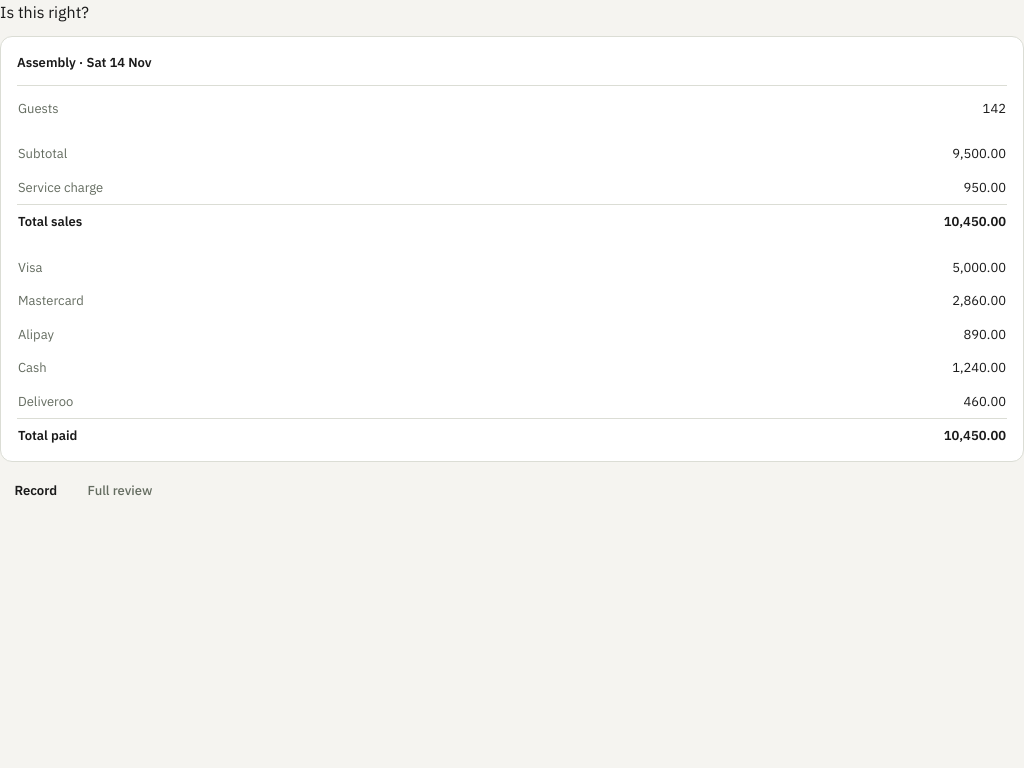
Test case: Bani chat sales receipt › records only after Record and a second confirm
The width and height of the screenshot is (1024, 768).
Later steps or results of the test are not shown.
Click the button "Record": (36, 490) left=0, top=474, right=72, bottom=508
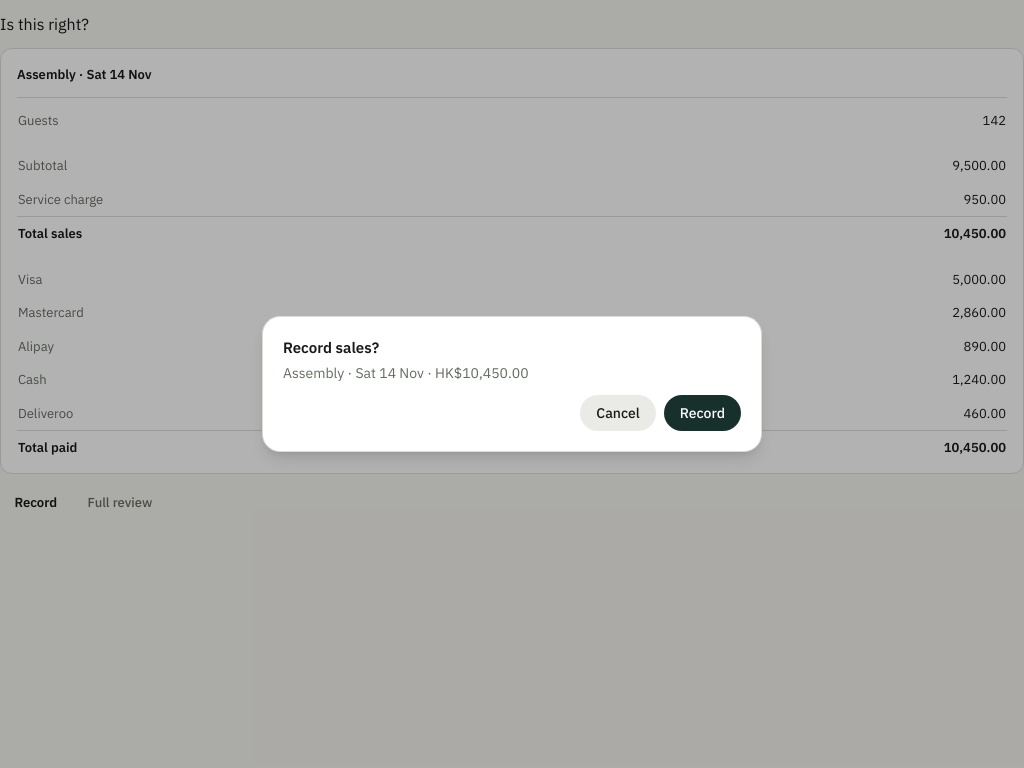
expect the dialog is shown: met, box left=262, top=316, right=762, bottom=452
Click the button "Cancel": (618, 413) left=580, top=395, right=656, bottom=431
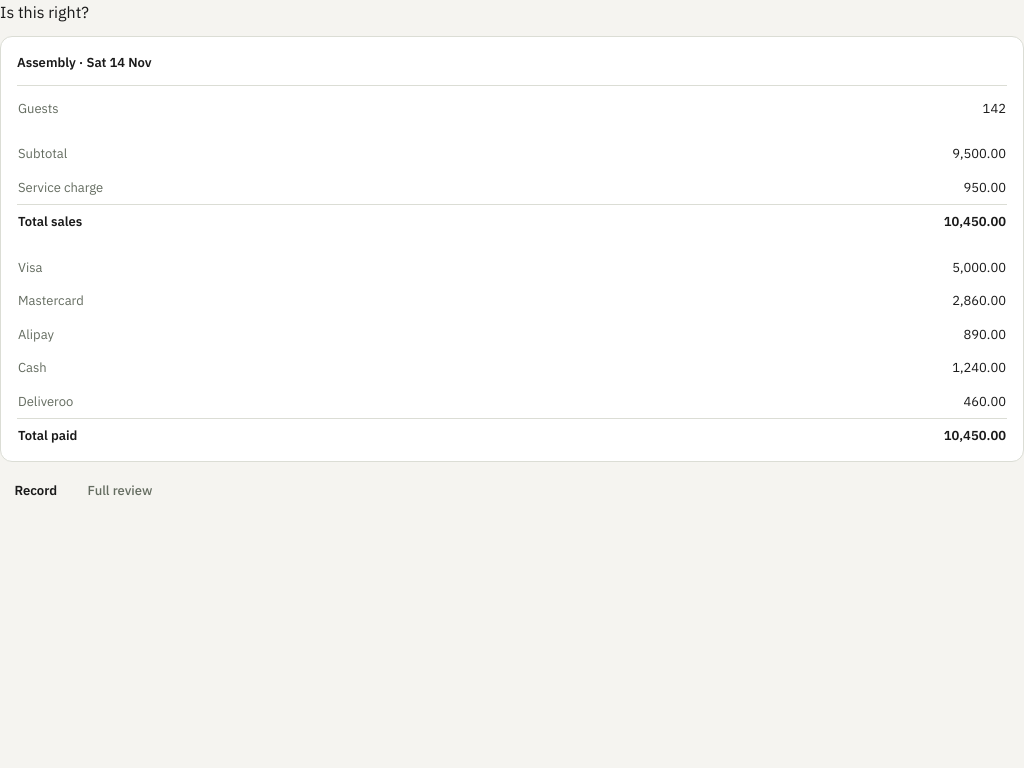
expect the dialog is gone: met
